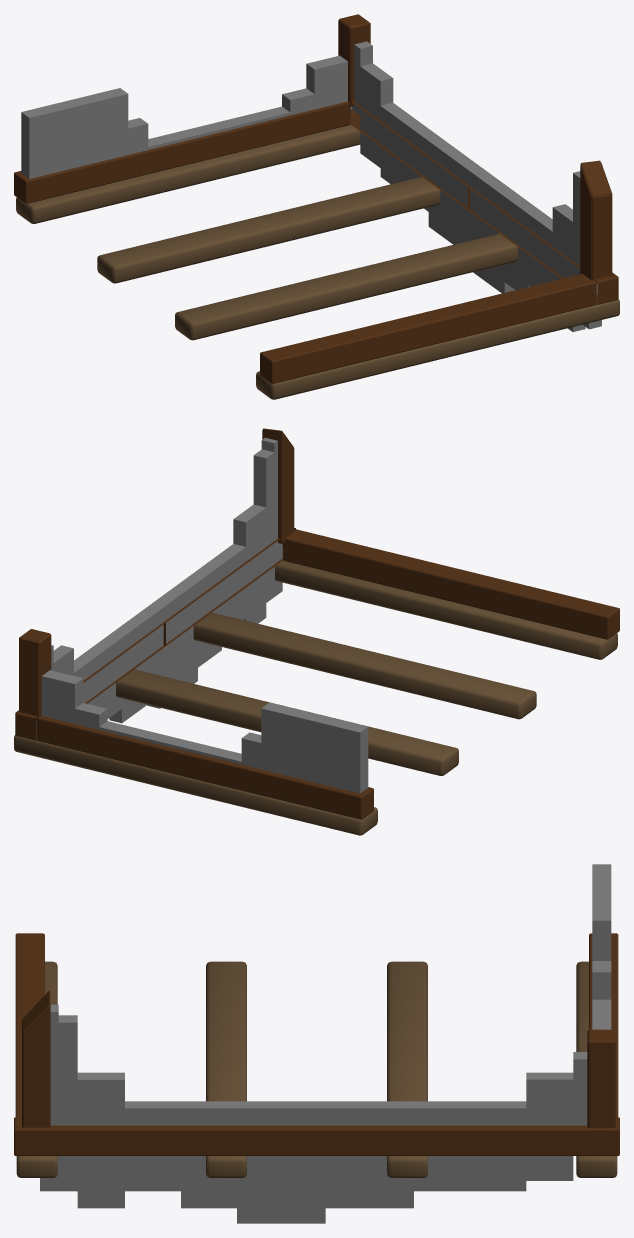
Rendered from FrontWall.fbx.
3 renders of one model, top to bottom at view 1: azimuth 30°, elevation 25°; view 2: azimuth 150°, elevation 25°; view 3: azimuth 270°, elevation 25°, orthographic. The views are drawn at different scales.
Visible parts, largest first — view 1: Front; view 2: Front; view 3: Front.
Boxes of the visible parts, x1,y1,x2,y2 form: Front: (14,14,619,399); Front: (14,428,619,835); Front: (14,864,619,1223).
Bounding box in the file's own units: 5.36 × 2.81 × 6.89.
